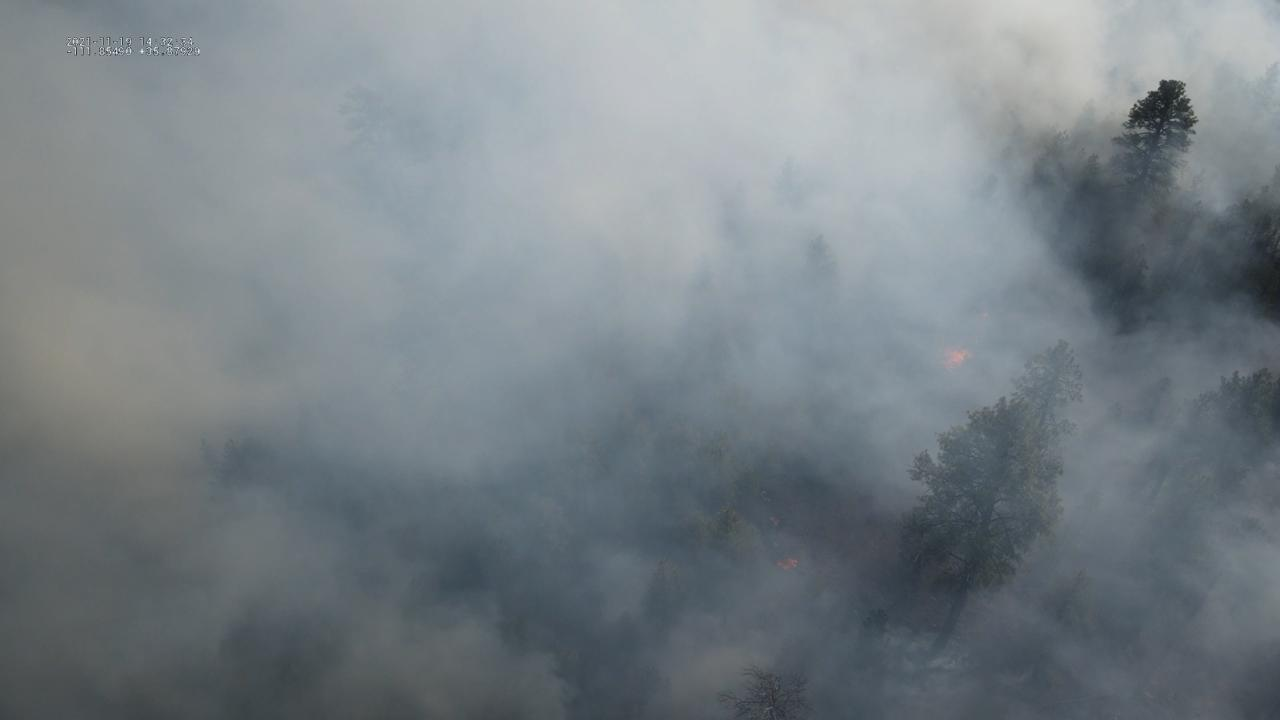fire: (939, 343, 974, 371), (775, 557, 800, 571), (766, 515, 782, 529)
smoke: (0, 0, 1280, 720)
